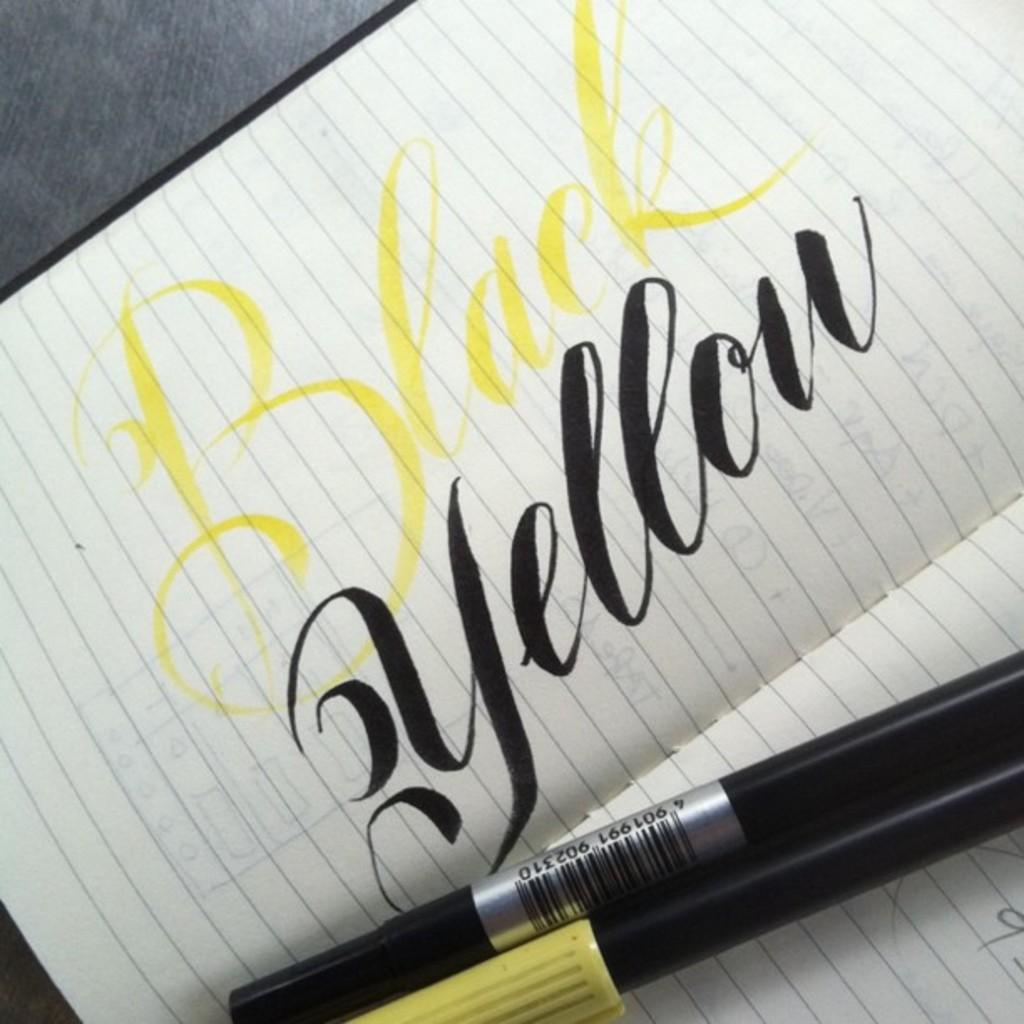pen: (231, 654, 1022, 1022)
